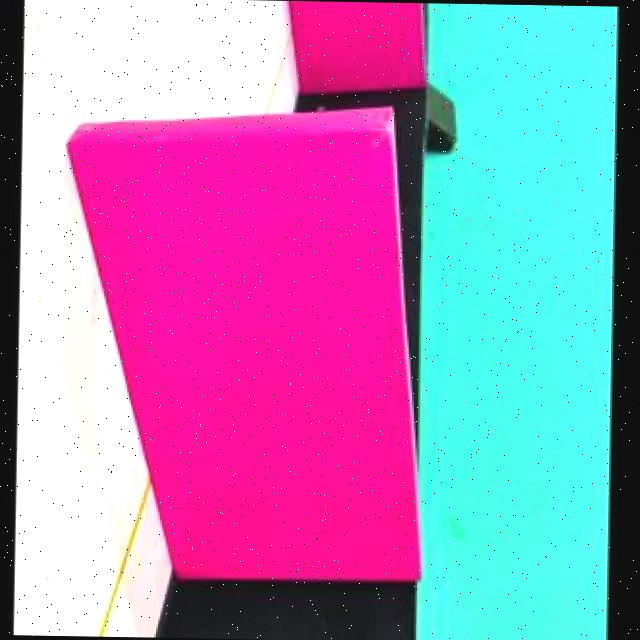xparking: (73, 125, 380, 566), (289, 0, 414, 69)
